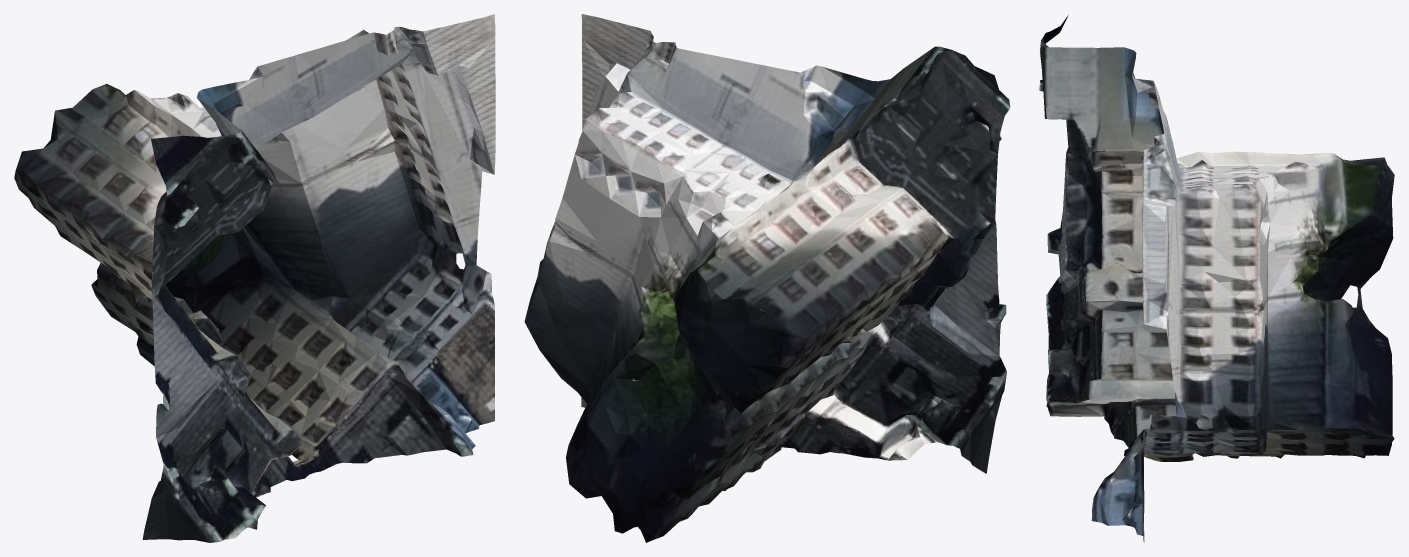
File: Tile_+031_+021_L19_000331.obj
The picture shows the model from 3 angles, left to right: view 1: azimuth 30°, elevation 25°; view 2: azimuth 150°, elevation 25°; view 3: azimuth 270°, elevation 25°; orthographic projection. The views are drawn at different scales.
Size of the model in its own units: 31.5 by 31.75 by 28.28.
Materials: 1 (1 with a texture image).
